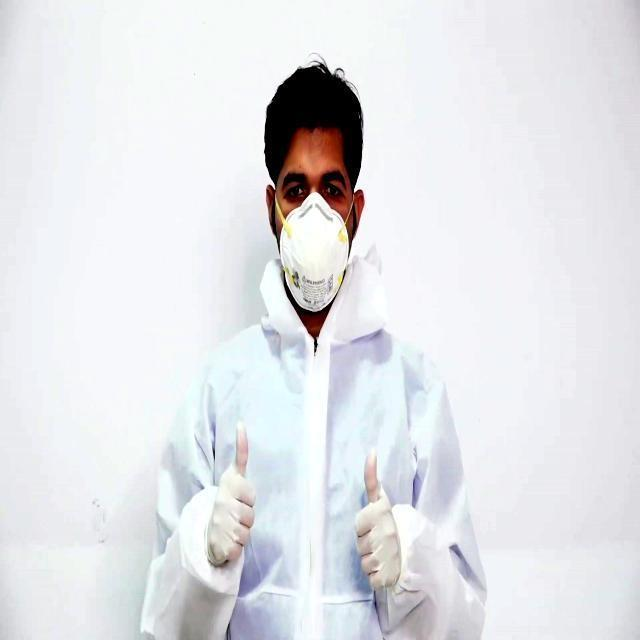apron: (335, 449, 435, 598), (198, 420, 256, 591)
